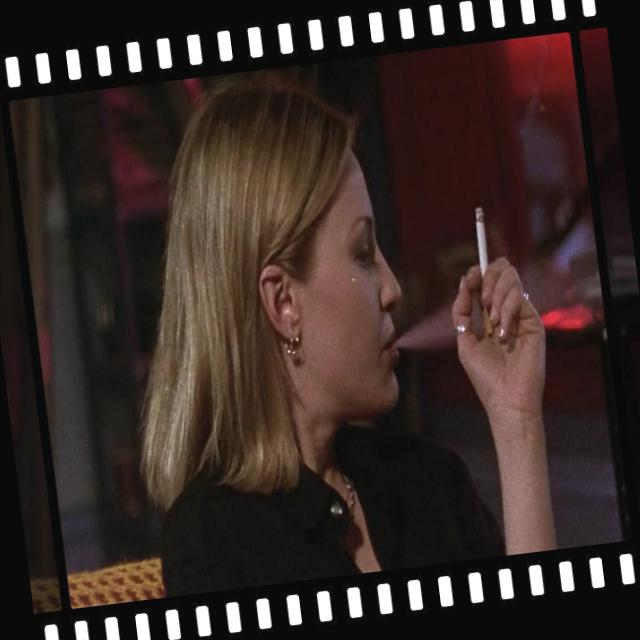smoke: (448, 192, 516, 360)
